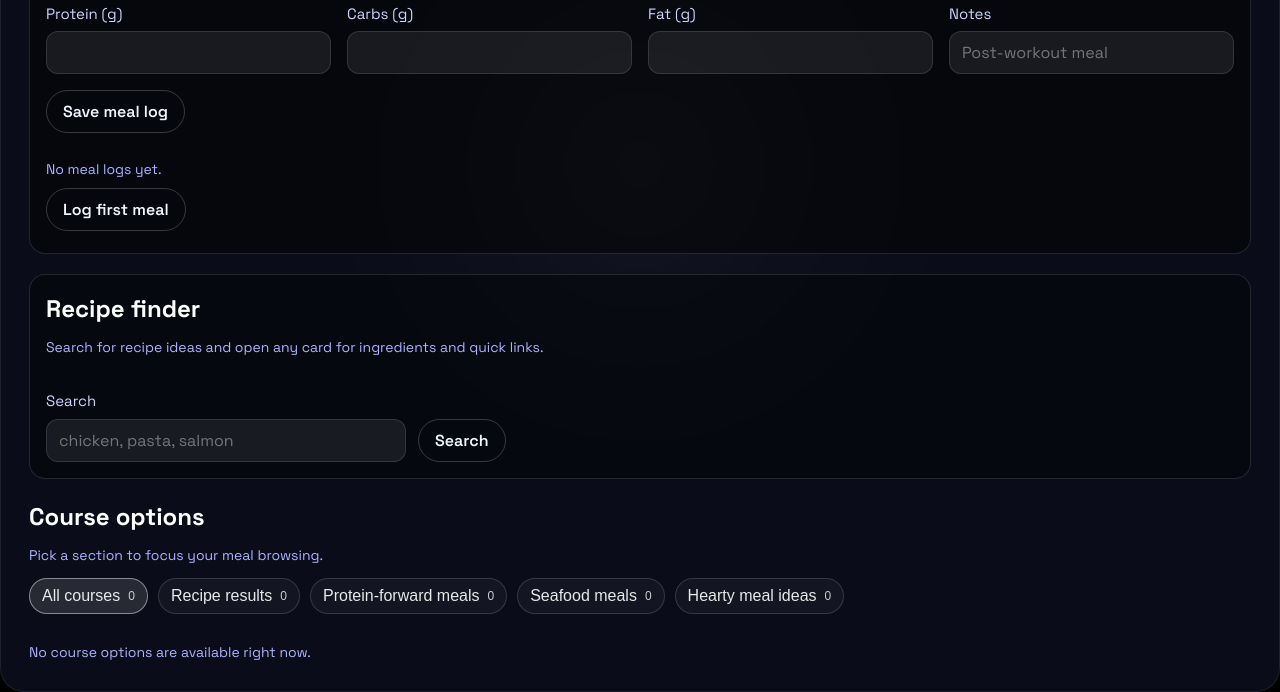
Scenario: MealView › the recipe search › a submitted search names the query in the results subtitle
The image size is (1280, 692).
(page scrolled)
Expected: the button "Protein-forward meals 0" is shown, [310, 578, 507, 614]
Type "tofu" into the field with placeholder "chicken, pasta, salmon" at (226, 440), box [46, 418, 406, 462]
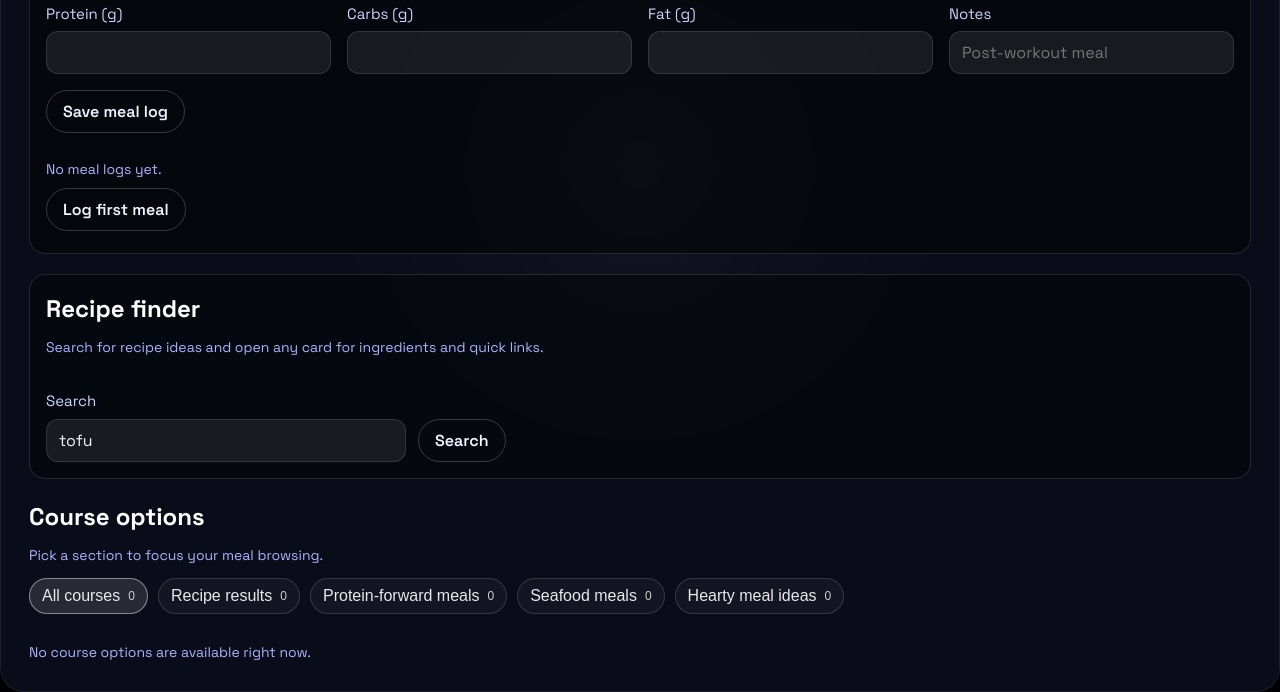
Submit the form with placeholder "chicken, pasta, salmon", box [46, 390, 506, 462]
(page scrolled)
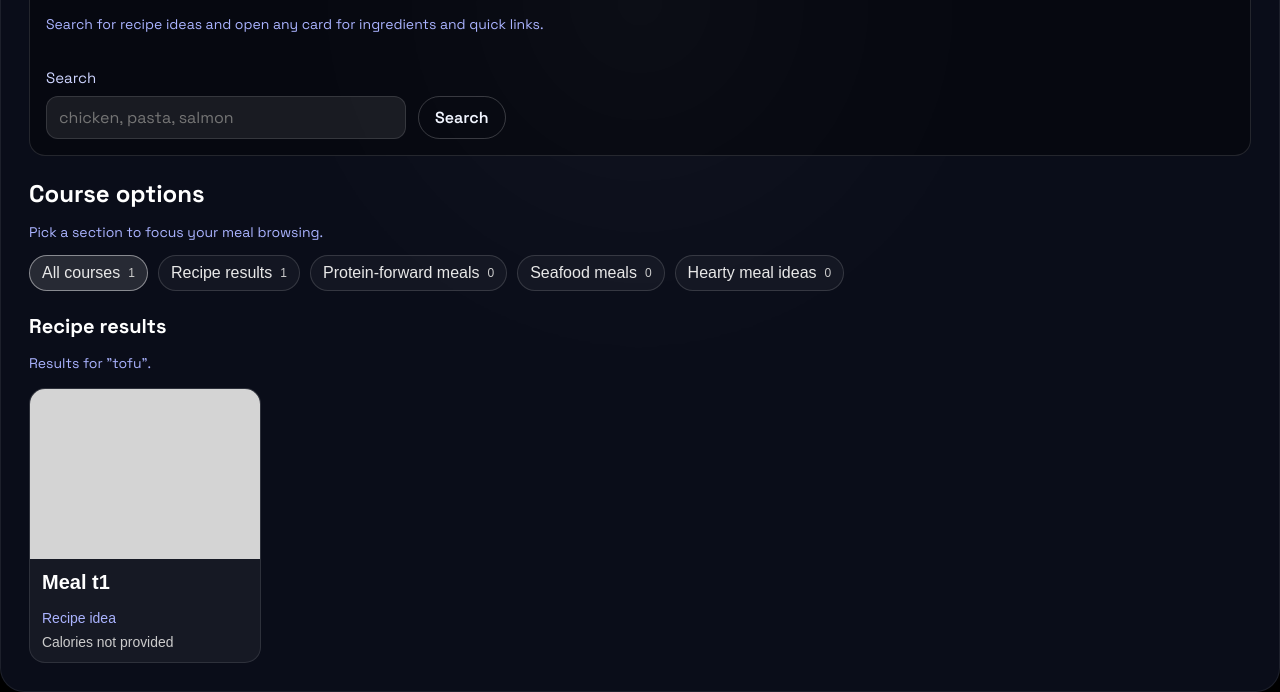
Result: the text "Results for \"tofu\"." is shown at [29, 354, 151, 372]
